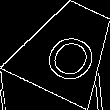O_NE: (33, 17, 101, 82)
